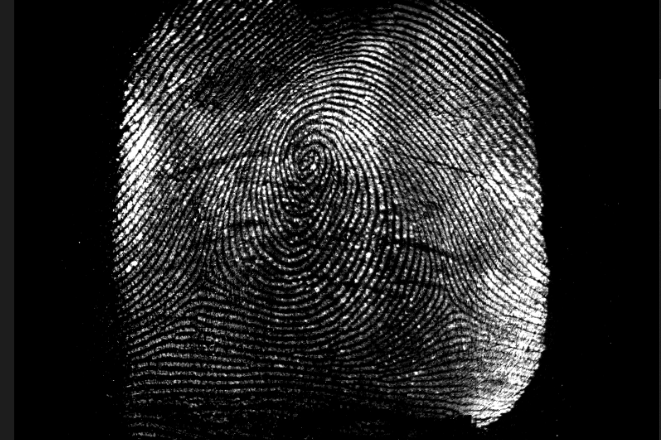nucelo: (296, 144, 321, 179)
verticilo: (186, 265, 216, 296), (437, 289, 461, 318)
